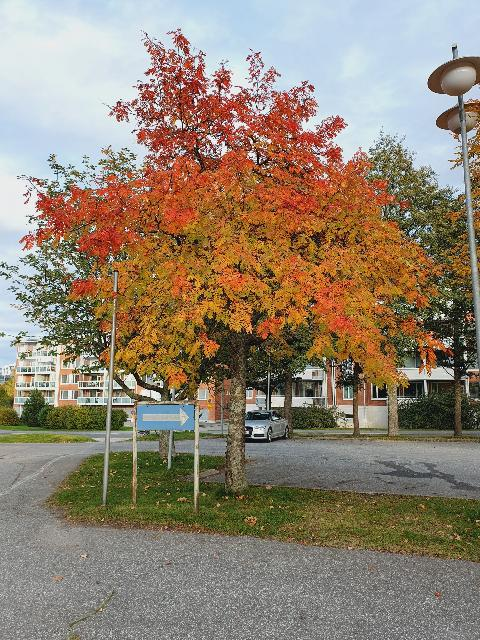rowan: (14, 25, 464, 501)
